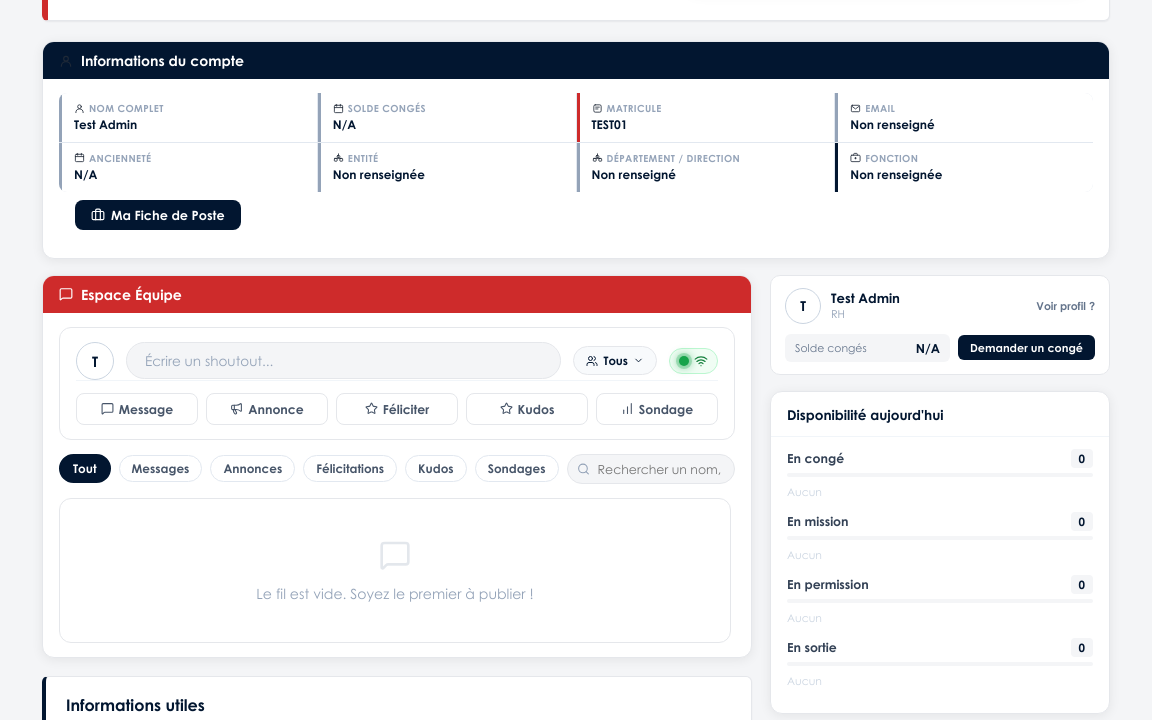
Test: Présence en ligne — Home.jsx › 3. cliquer le bouton ouvre le drawer
(page scrolled)
Click the button titled "Présences en ligne".
click(694, 361)  # box [669,348,718,374]
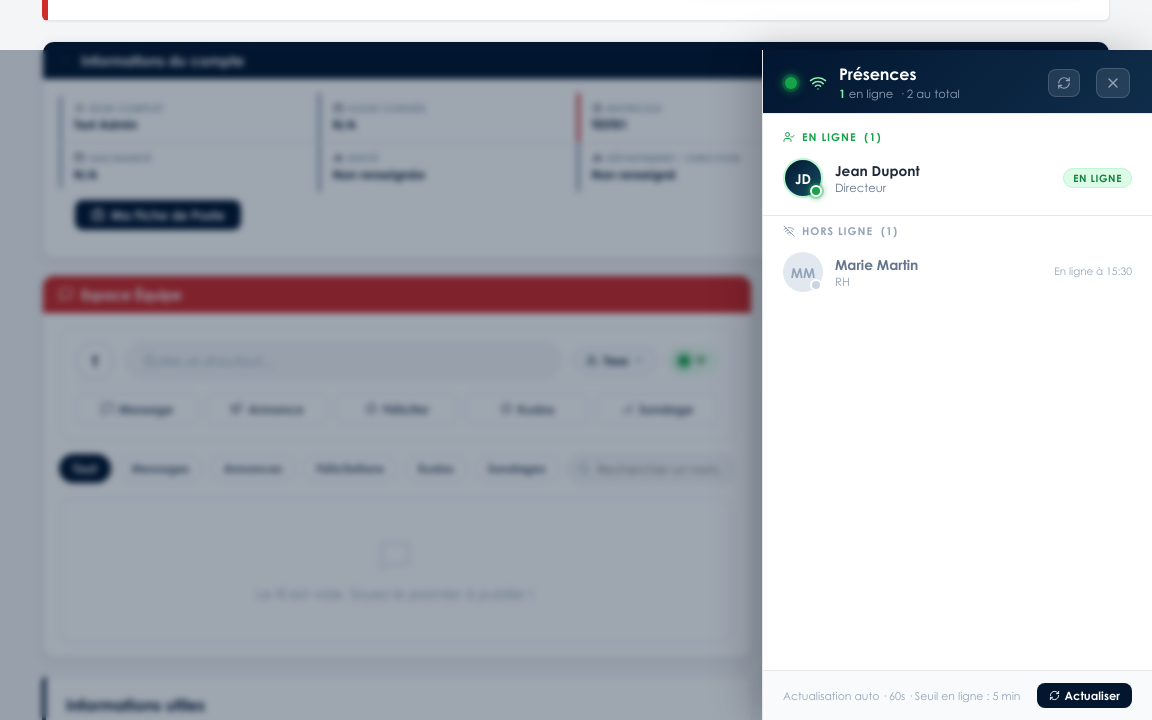
Now the text "Présences" is shown, box [839,64,916,84]
